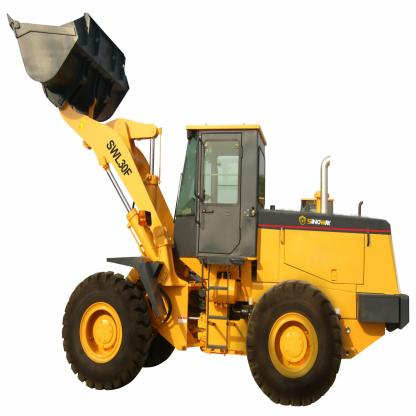bull_dozer/loader/grader: (2, 9, 404, 389)
